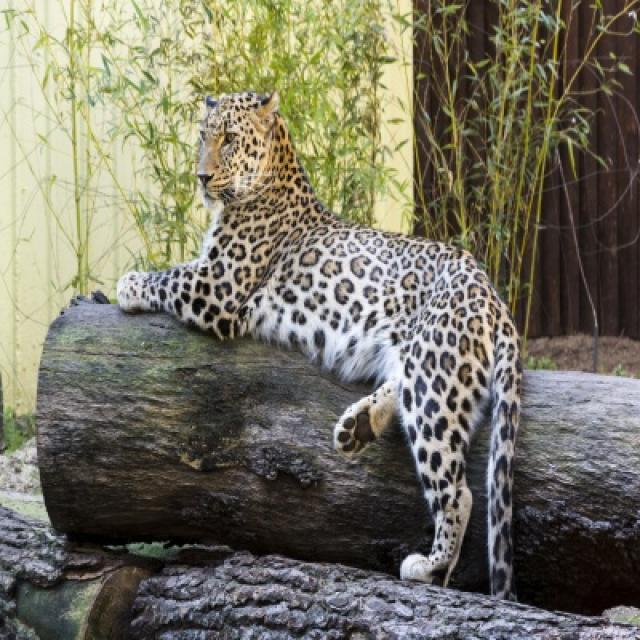Jaguar: (115, 91, 525, 600)
